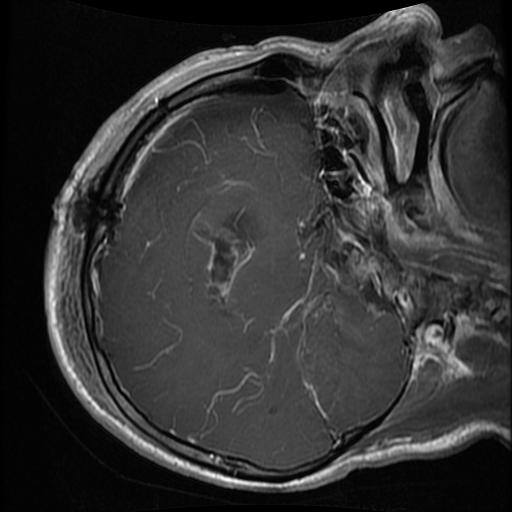glioma: (193, 206, 257, 309)
